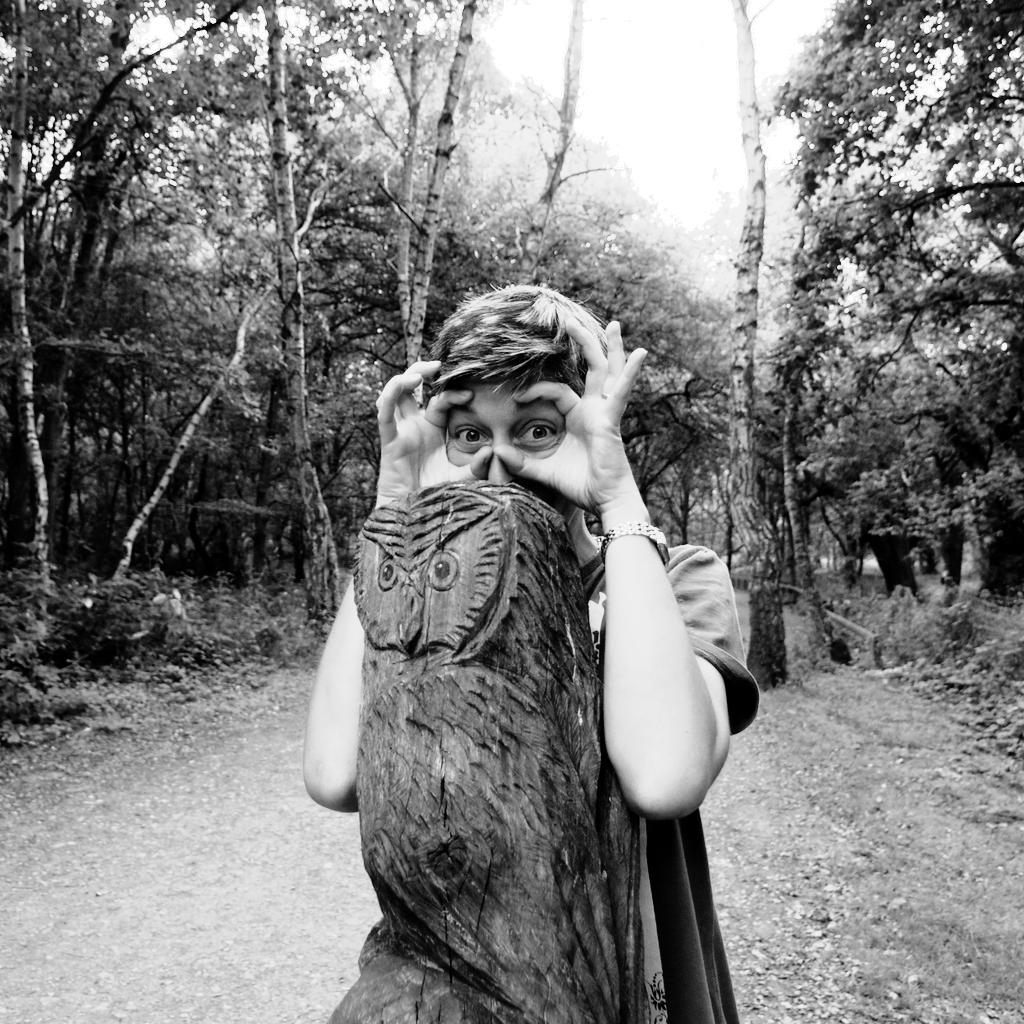Owl: (332, 470, 626, 1024)
